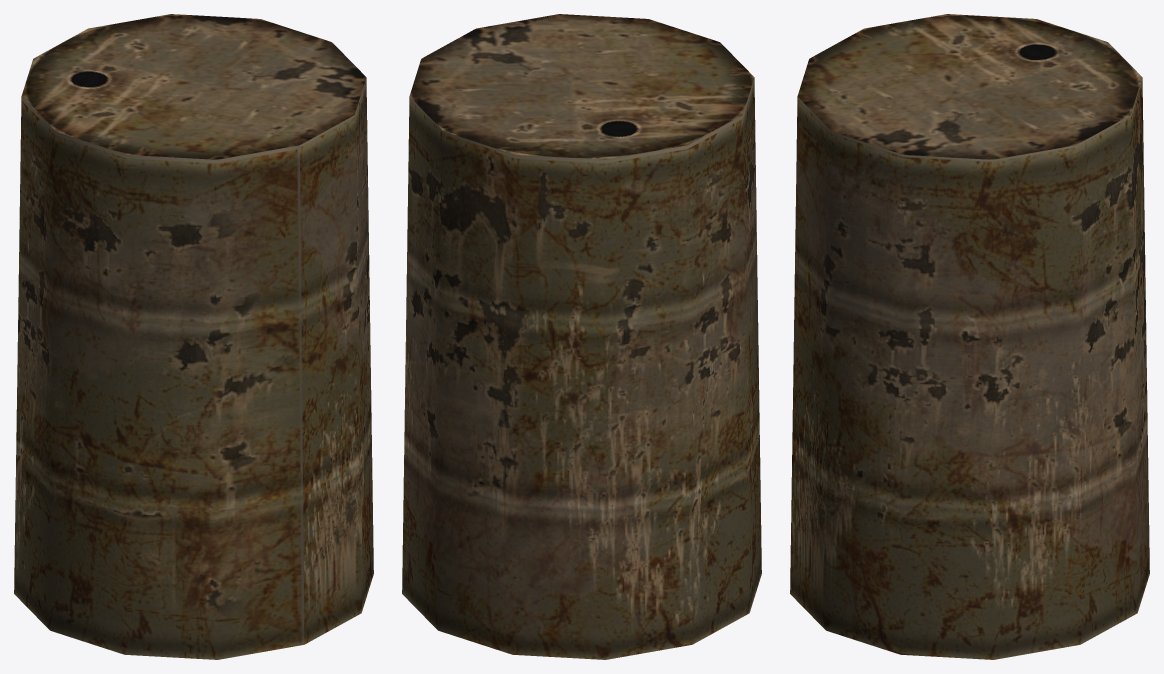
File: Barrel1_LOD1.fbx
The picture shows the model from 3 angles, left to right: view 1: azimuth 30°, elevation 25°; view 2: azimuth 150°, elevation 25°; view 3: azimuth 270°, elevation 25°; orthographic projection.
Parts seen in each view (by area): view 1: polySurface5; view 2: polySurface5; view 3: polySurface5.
Part boxes in pixels (x1,y1,x2,y2): polySurface5: (14, 14, 373, 659); polySurface5: (402, 14, 761, 659); polySurface5: (790, 14, 1149, 659).
Bounding box in the file's own units: 0.8936 × 1.36 × 0.8936.
